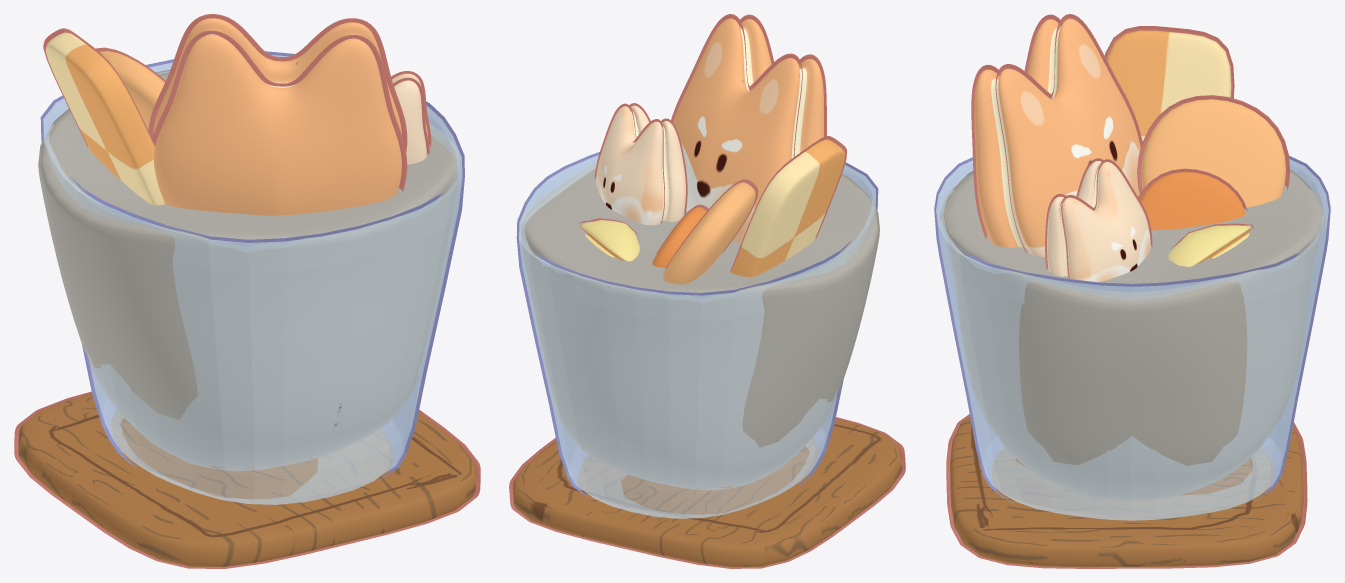
3 views of the same model, side by side, from view 1: azimuth 30°, elevation 25°; view 2: azimuth 150°, elevation 25°; view 3: azimuth 270°, elevation 25° (orthographic). The views are drawn at different scales.
Visible parts, largest first — view 1: drink_9, Cube.001_3, mat_10, macaroon2_1, cookie2_7, macaroon1_0, cookie1_6; view 2: drink_9, Cube.001_3, mat_10, macaroon2_1, macaroon1_0, cookie2_7, cookie1_6, macaroon3_2, cookie3_8; view 3: drink_9, Cube.001_3, mat_10, macaroon2_1, cookie1_6, macaroon1_0, cookie2_7, cookie3_8, macaroon3_2.
Part boxes in pixels (x1,y1,x2,y2): drink_9: [38, 70, 459, 471]; Cube.001_3: [40, 51, 464, 504]; mat_10: [14, 391, 480, 568]; macaroon2_1: [148, 14, 407, 215]; cookie2_7: [43, 28, 164, 205]; macaroon1_0: [391, 71, 431, 164]; cookie1_6: [96, 47, 165, 129]; drink_9: [520, 162, 879, 490]; Cube.001_3: [516, 152, 878, 518]; mat_10: [509, 417, 905, 568]; macaroon2_1: [671, 14, 826, 243]; macaroon1_0: [594, 103, 687, 225]; cookie2_7: [730, 136, 846, 277]; cookie1_6: [662, 179, 758, 284]; macaroon3_2: [579, 218, 639, 261]; cookie3_8: [652, 204, 708, 267]; drink_9: [939, 169, 1326, 500]; Cube.001_3: [934, 155, 1330, 520]; mat_10: [946, 414, 1307, 568]; macaroon2_1: [971, 14, 1142, 256]; cookie1_6: [1137, 95, 1290, 207]; macaroon1_0: [1045, 158, 1152, 282]; cookie2_7: [1104, 26, 1234, 141]; cookie3_8: [1138, 168, 1247, 230]; macaroon3_2: [1168, 223, 1253, 266].
Size of the model in its own units: 3.15 by 4.19 by 3.33.
Materials: 6 (3 with a texture image).
